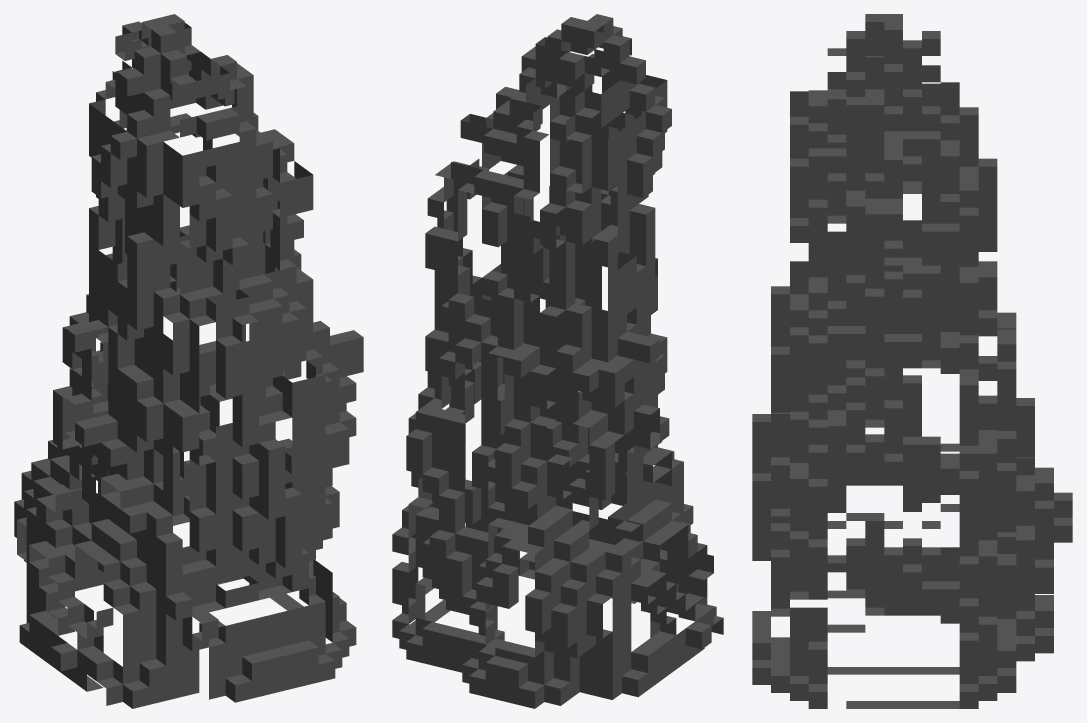
File: rock.obj
3 views of the same model, side by side, from view 1: azimuth 30°, elevation 25°; view 2: azimuth 150°, elevation 25°; view 3: azimuth 270°, elevation 25° (orthographic). The views are drawn at different scales.
Visible parts, largest first — view 1: Model; view 2: Model; view 3: Model.
Part boxes in pixels (box(x1,y1,x2,y2)): Model: box(14, 14, 363, 708); Model: box(392, 14, 723, 708); Model: box(752, 14, 1072, 708).
Bounding box in the file's own units: 15.11 × 32 × 15.11.
